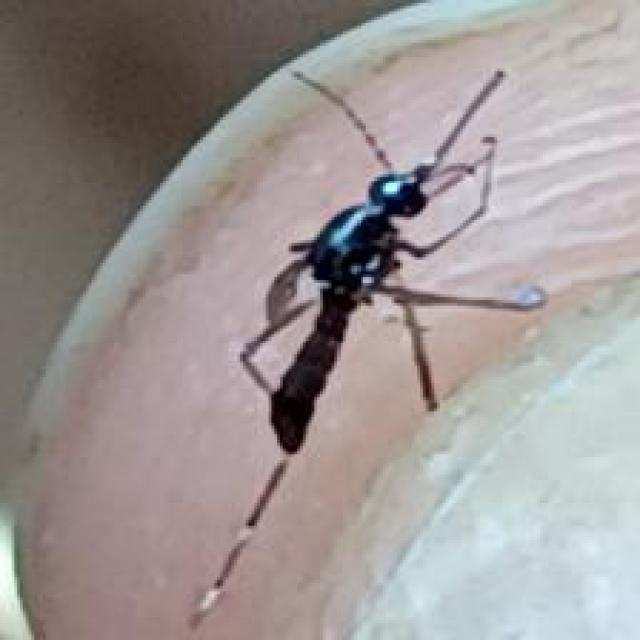Aedes albopictus: (186, 64, 548, 630)
